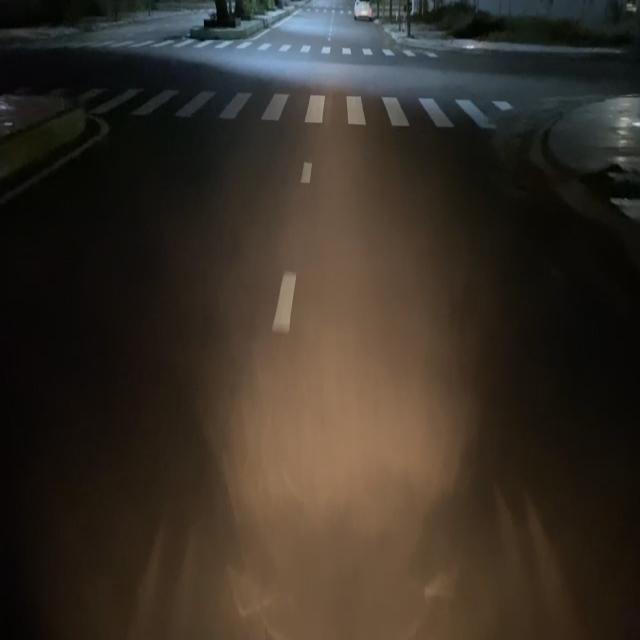walk-crossing: (107, 84, 520, 134)
